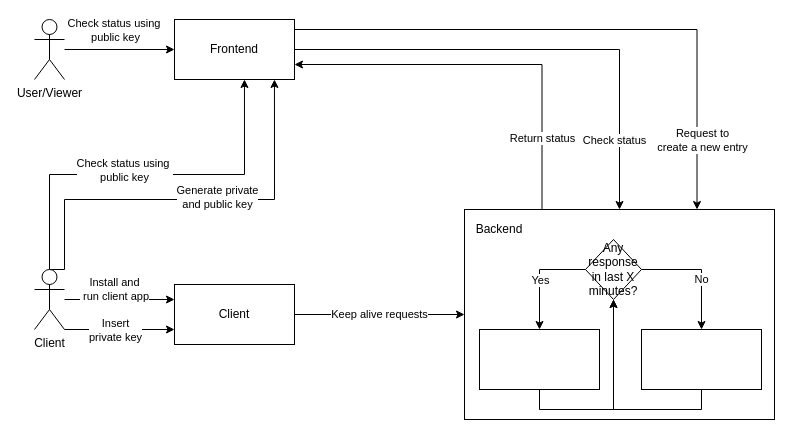
This 792x437 diagram has some shape labels left out. Each missing label, with the box of its shape:
Set entry in database to: Failing: (640, 328, 762, 390)
Set entry in database to: Running: (478, 328, 600, 390)
